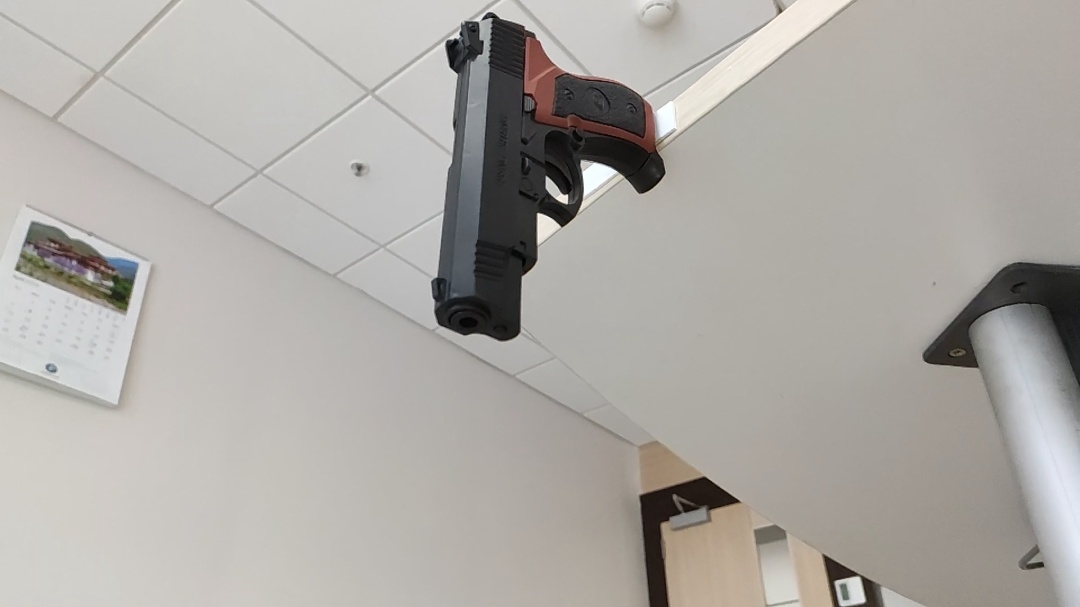gun: (426, 9, 667, 348)
